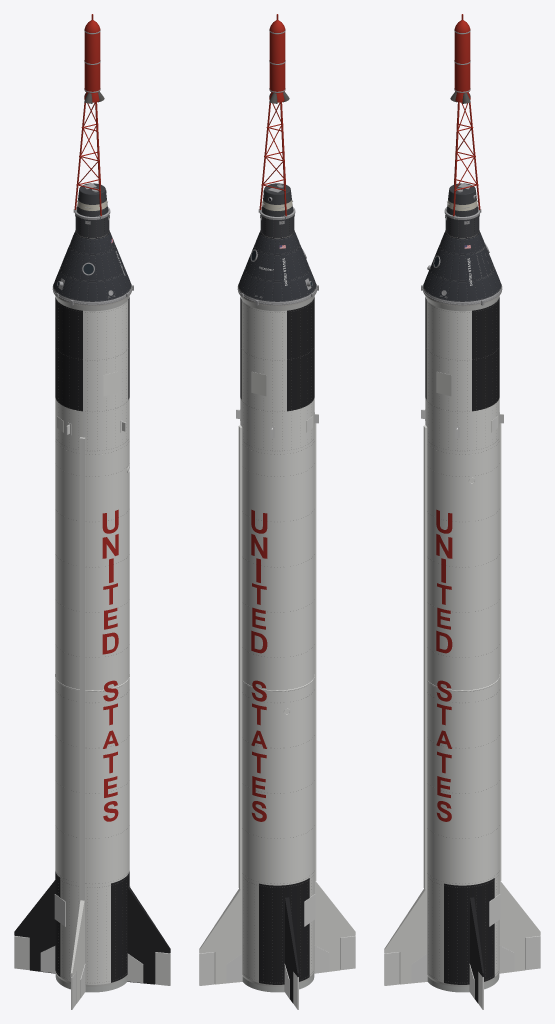
File: vehicle.glb
3 renders of one model, left to right at view 1: azimuth 30°, elevation 25°; view 2: azimuth 150°, elevation 25°; view 3: azimuth 330°, elevation 25°, orthographic.
Parts seen in each view (by area): view 1: CenterUnit_Tanks, AftUnit_SkinWhite, CenterUnit_Conduits, TailUnit_SkinWhite, TailUnit_FinsBlack, Afterbody_Shingles, AftUnit_SkinBlack, TailUnit_SkinBlack, CenterUnit_Lettering, TailUnit_AirRudders, TailUnit_ShieldsAndDoors, Tower_EscapeMotor (+5 smaller); view 2: CenterUnit_Tanks, AftUnit_SkinWhite, CenterUnit_Conduits, TailUnit_SkinBlack, TailUnit_FinsWhite, Afterbody_Shingles, AftUnit_SkinBlack, TailUnit_SkinWhite, CenterUnit_Lettering, TailUnit_AirRudders, TailUnit_ShieldsAndDoors, Tower_EscapeMotor (+5 smaller); view 3: CenterUnit_Tanks, AftUnit_SkinWhite, CenterUnit_Conduits, TailUnit_SkinBlack, TailUnit_FinsWhite, Afterbody_Shingles, AftUnit_SkinBlack, TailUnit_SkinWhite, CenterUnit_Lettering, TailUnit_AirRudders, TailUnit_ShieldsAndDoors, Tower_EscapeMotor (+5 smaller).
Boxes of the visible parts, x1=… form: CenterUnit_Tanks: x1=55, y1=438, x2=129, y2=885; AftUnit_SkinWhite: x1=55, y1=300, x2=129, y2=452; CenterUnit_Conduits: x1=55, y1=437, x2=129, y2=900; TailUnit_SkinWhite: x1=56, y1=878, x2=127, y2=986; TailUnit_FinsBlack: x1=14, y1=880, x2=170, y2=984; Afterbody_Shingles: x1=53, y1=232, x2=131, y2=301; AftUnit_SkinBlack: x1=55, y1=297, x2=129, y2=411; TailUnit_SkinBlack: x1=55, y1=871, x2=129, y2=982; CenterUnit_Lettering: x1=102, y1=509, x2=118, y2=821; TailUnit_AirRudders: x1=14, y1=936, x2=170, y2=1009; TailUnit_ShieldsAndDoors: x1=40, y1=886, x2=143, y2=998; Tower_EscapeMotor: x1=84, y1=14, x2=100, y2=93; CenterUnit_Tanks: x1=242, y1=438, x2=314, y2=885; AftUnit_SkinWhite: x1=240, y1=300, x2=314, y2=452; CenterUnit_Conduits: x1=238, y1=423, x2=316, y2=889; TailUnit_SkinBlack: x1=259, y1=878, x2=309, y2=984; TailUnit_FinsWhite: x1=199, y1=881, x2=355, y2=984; Afterbody_Shingles: x1=238, y1=232, x2=316, y2=301; AftUnit_SkinBlack: x1=240, y1=297, x2=314, y2=411; TailUnit_SkinWhite: x1=242, y1=871, x2=314, y2=986; CenterUnit_Lettering: x1=251, y1=509, x2=267, y2=821; TailUnit_AirRudders: x1=199, y1=936, x2=355, y2=1009; TailUnit_ShieldsAndDoors: x1=226, y1=894, x2=329, y2=998; Tower_EscapeMotor: x1=269, y1=14, x2=285, y2=93; CenterUnit_Tanks: x1=427, y1=438, x2=499, y2=885; AftUnit_SkinWhite: x1=425, y1=300, x2=499, y2=452; CenterUnit_Conduits: x1=423, y1=423, x2=501, y2=889; TailUnit_SkinBlack: x1=444, y1=878, x2=494, y2=984; TailUnit_FinsWhite: x1=384, y1=881, x2=540, y2=984; Afterbody_Shingles: x1=423, y1=232, x2=501, y2=301; AftUnit_SkinBlack: x1=425, y1=297, x2=499, y2=411; TailUnit_SkinWhite: x1=427, y1=871, x2=499, y2=986; CenterUnit_Lettering: x1=436, y1=509, x2=452, y2=821; TailUnit_AirRudders: x1=384, y1=936, x2=540, y2=1009; TailUnit_ShieldsAndDoors: x1=411, y1=894, x2=514, y2=998; Tower_EscapeMotor: x1=454, y1=14, x2=470, y2=93.
Bounding box in the file's own units: 2.76 × 25.41 × 2.76.
25 materials, 1 textured.
